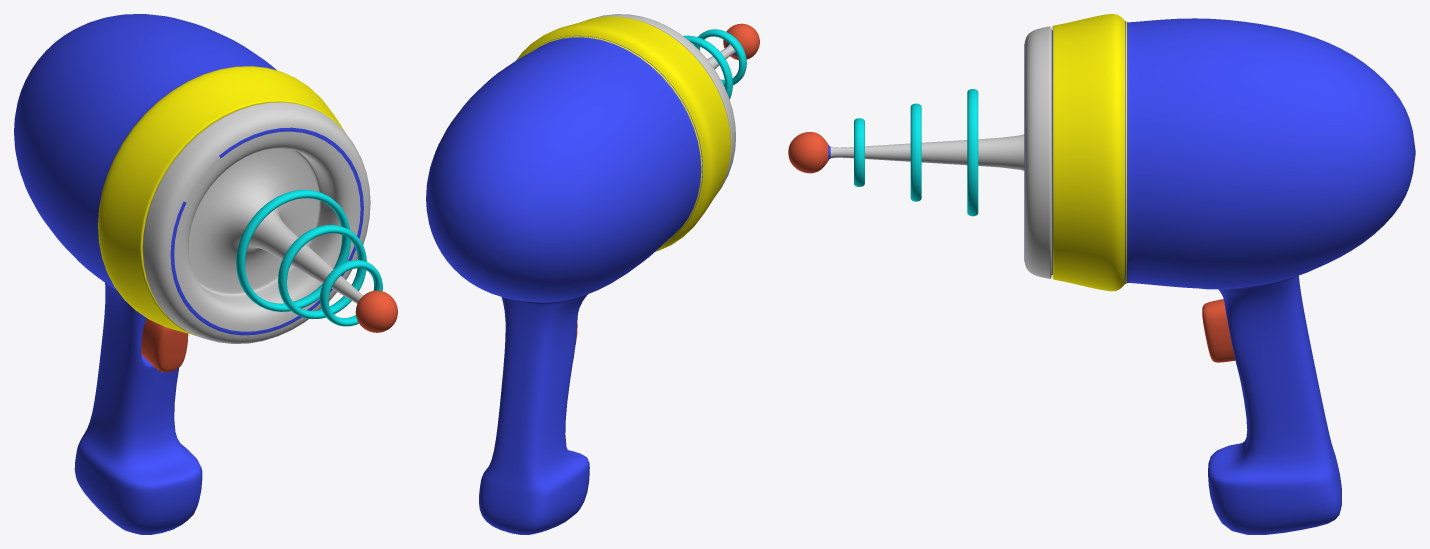
The model's file is BlueLaserGun.fbx.
The picture shows the model from 3 angles, left to right: view 1: azimuth 30°, elevation 25°; view 2: azimuth 150°, elevation 25°; view 3: azimuth 270°, elevation 25°; orthographic projection. The views are drawn at different scales.
Visible parts, largest first — view 1: BlueGun_LOD0; view 2: BlueGun_LOD0; view 3: BlueGun_LOD0.
Part boxes in pixels (left/top/right/bottom): BlueGun_LOD0: left=14, top=14, right=397, bottom=534; BlueGun_LOD0: left=426, top=14, right=759, bottom=534; BlueGun_LOD0: left=788, top=14, right=1415, bottom=534.
Size of what is drawn, in the model's own units: 24.73 by 49.29 by 55.92.
